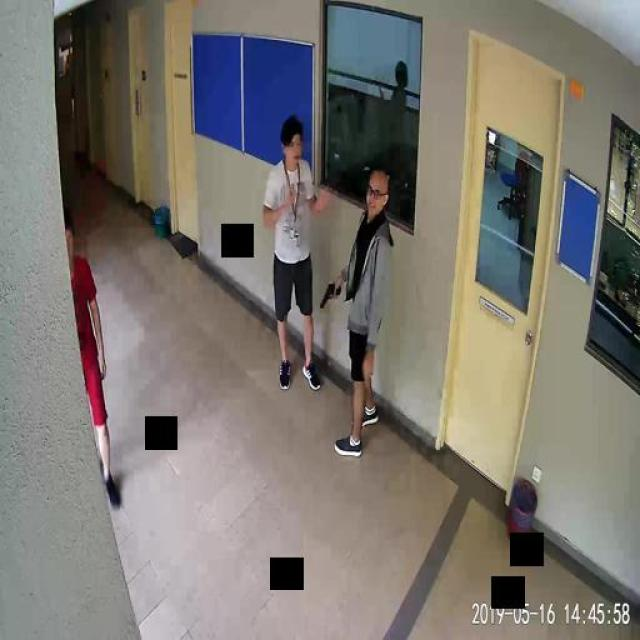gun: (317, 280, 338, 308)
